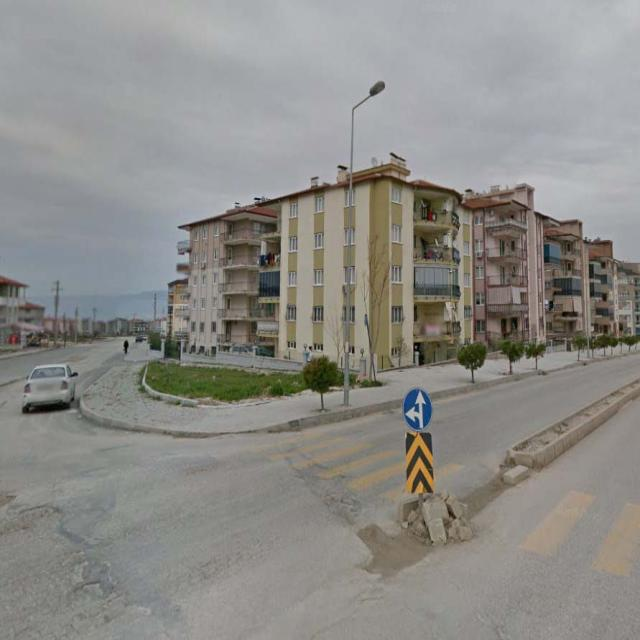ilerisol: (402, 388, 435, 435)
